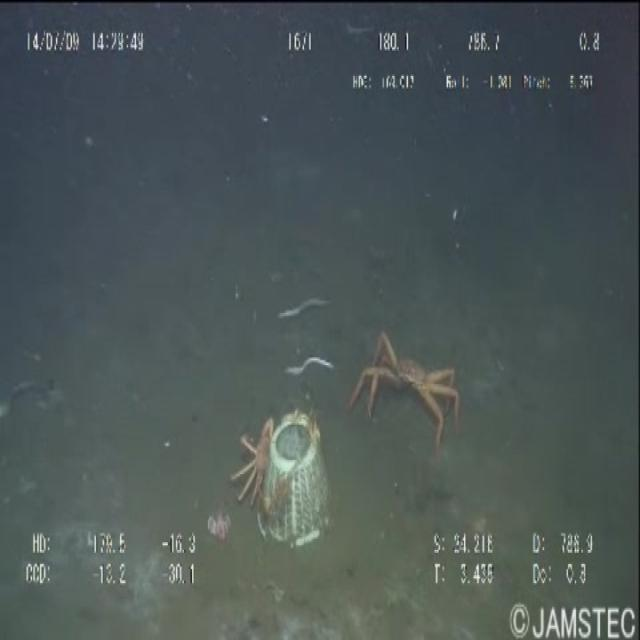Cutlery: (244, 406, 337, 560)
Litter: (200, 499, 240, 558)
